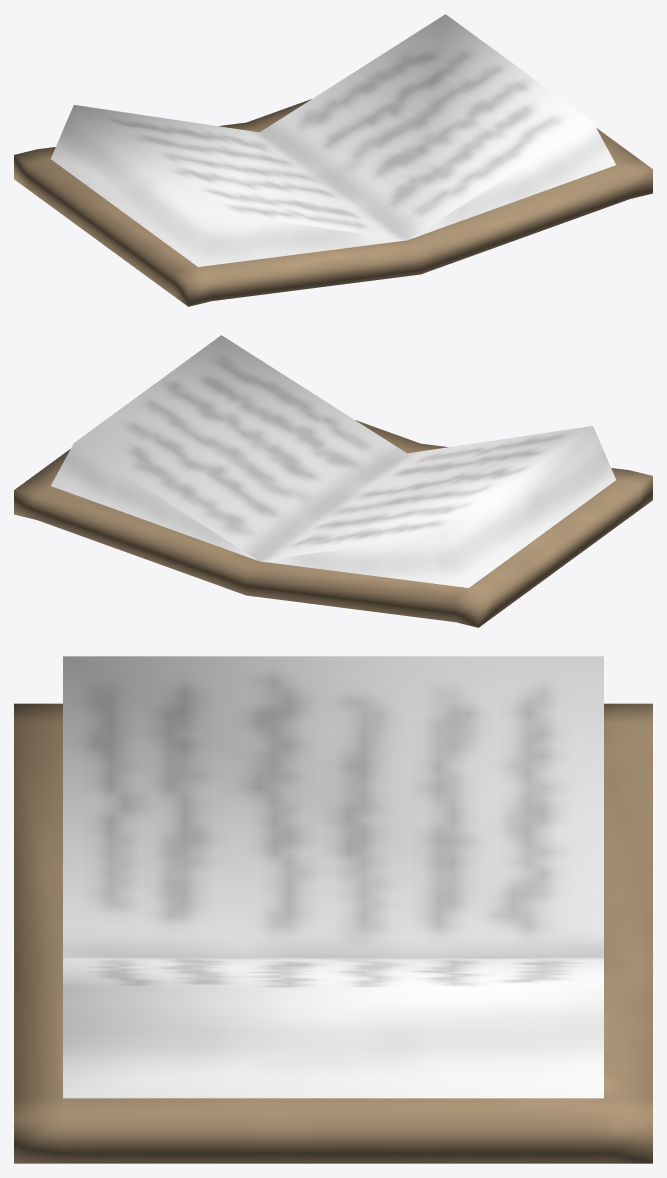
The model's file is book-open.glb.
The picture shows the model from 3 angles, top to bottom: view 1: azimuth 30°, elevation 25°; view 2: azimuth 150°, elevation 25°; view 3: azimuth 270°, elevation 25°; orthographic projection. The views are drawn at different scales.
Parts seen in each view (by area): view 1: Plane.001; view 2: Plane.001; view 3: Plane.001.
Boxes of the visible parts, box(x1,y1,x2,y2) form: Plane.001: box(14, 14, 652, 306); Plane.001: box(14, 335, 652, 627); Plane.001: box(14, 656, 652, 1163).
Bounding box in the file's own units: 2 × 0.4 × 1.3.
1 material, 1 textured.
